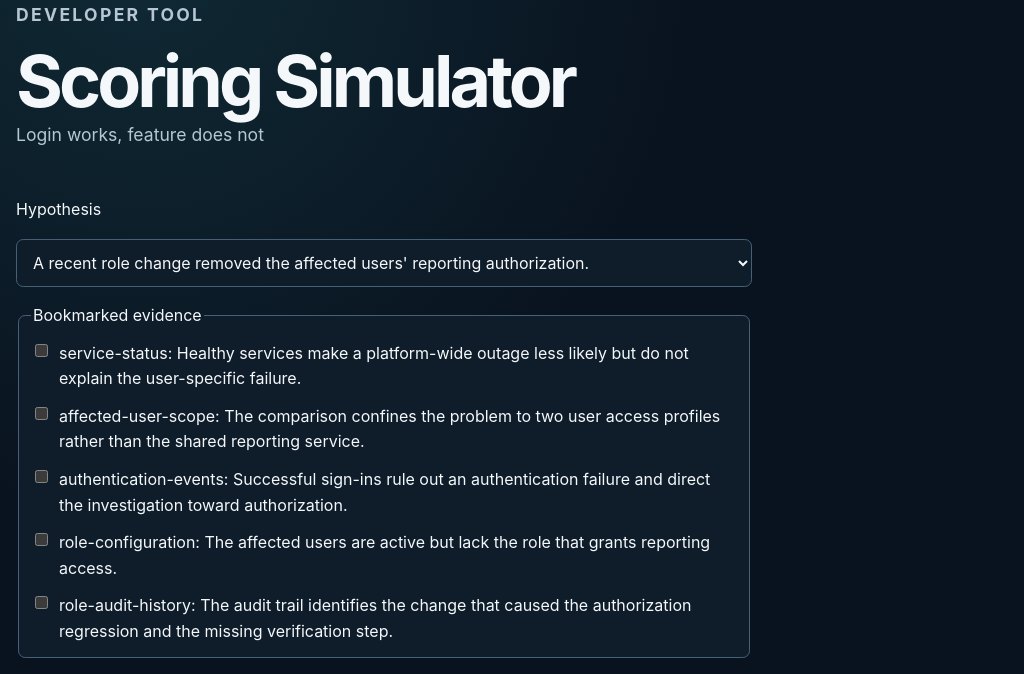
Test: ScoringSimulatorPage › scores an authored IAM hypothesis and selected evidence
This screenshot has width=1024, height=674.
Expected: the dropdown labelled "Hypothesis" is shown, [16,239,752,287]
Click the 1st checkbox. click: [42, 350]
box: [35,344,48,357]
(page scrolled)
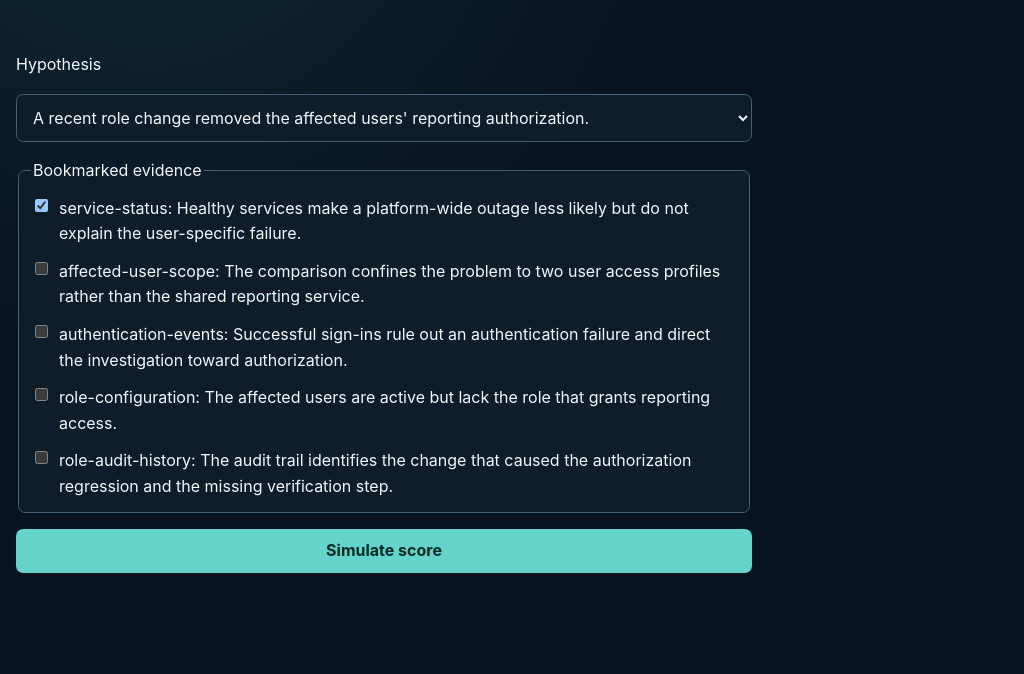
Click the button "Simulate score". click: [384, 551]
box: [16,529,752,573]
(page scrolled)
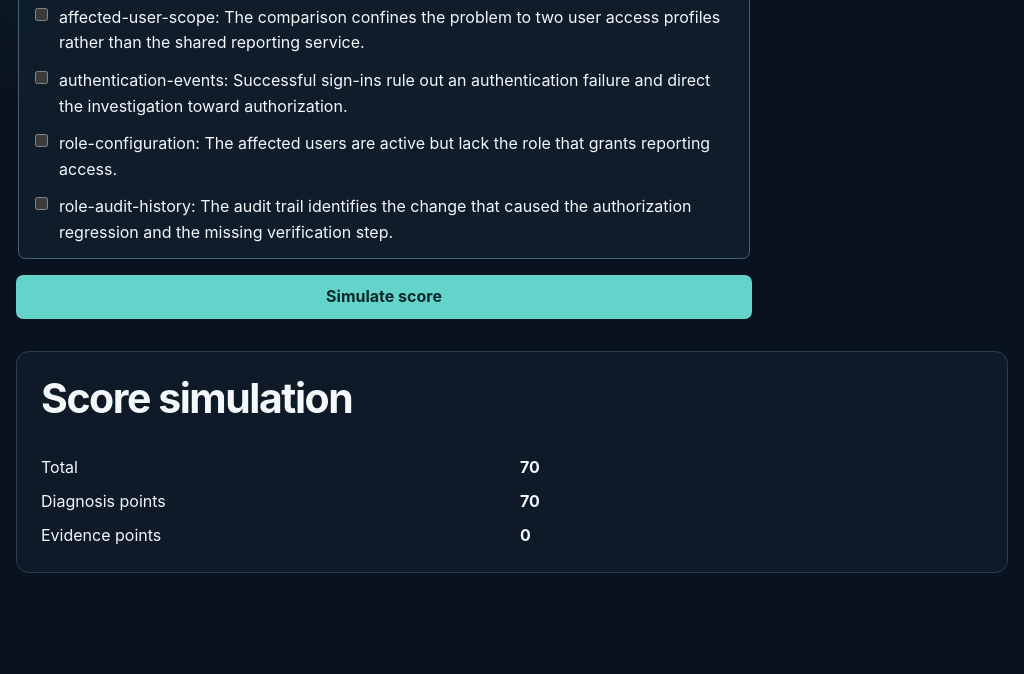
Expected: the heading "Score simulation" is shown, [41,373,352,423]
Expected: the text "Total" is shown, [41,457,78,477]
Expected: the text "Diagnosis points" is shown, [41,491,166,511]
